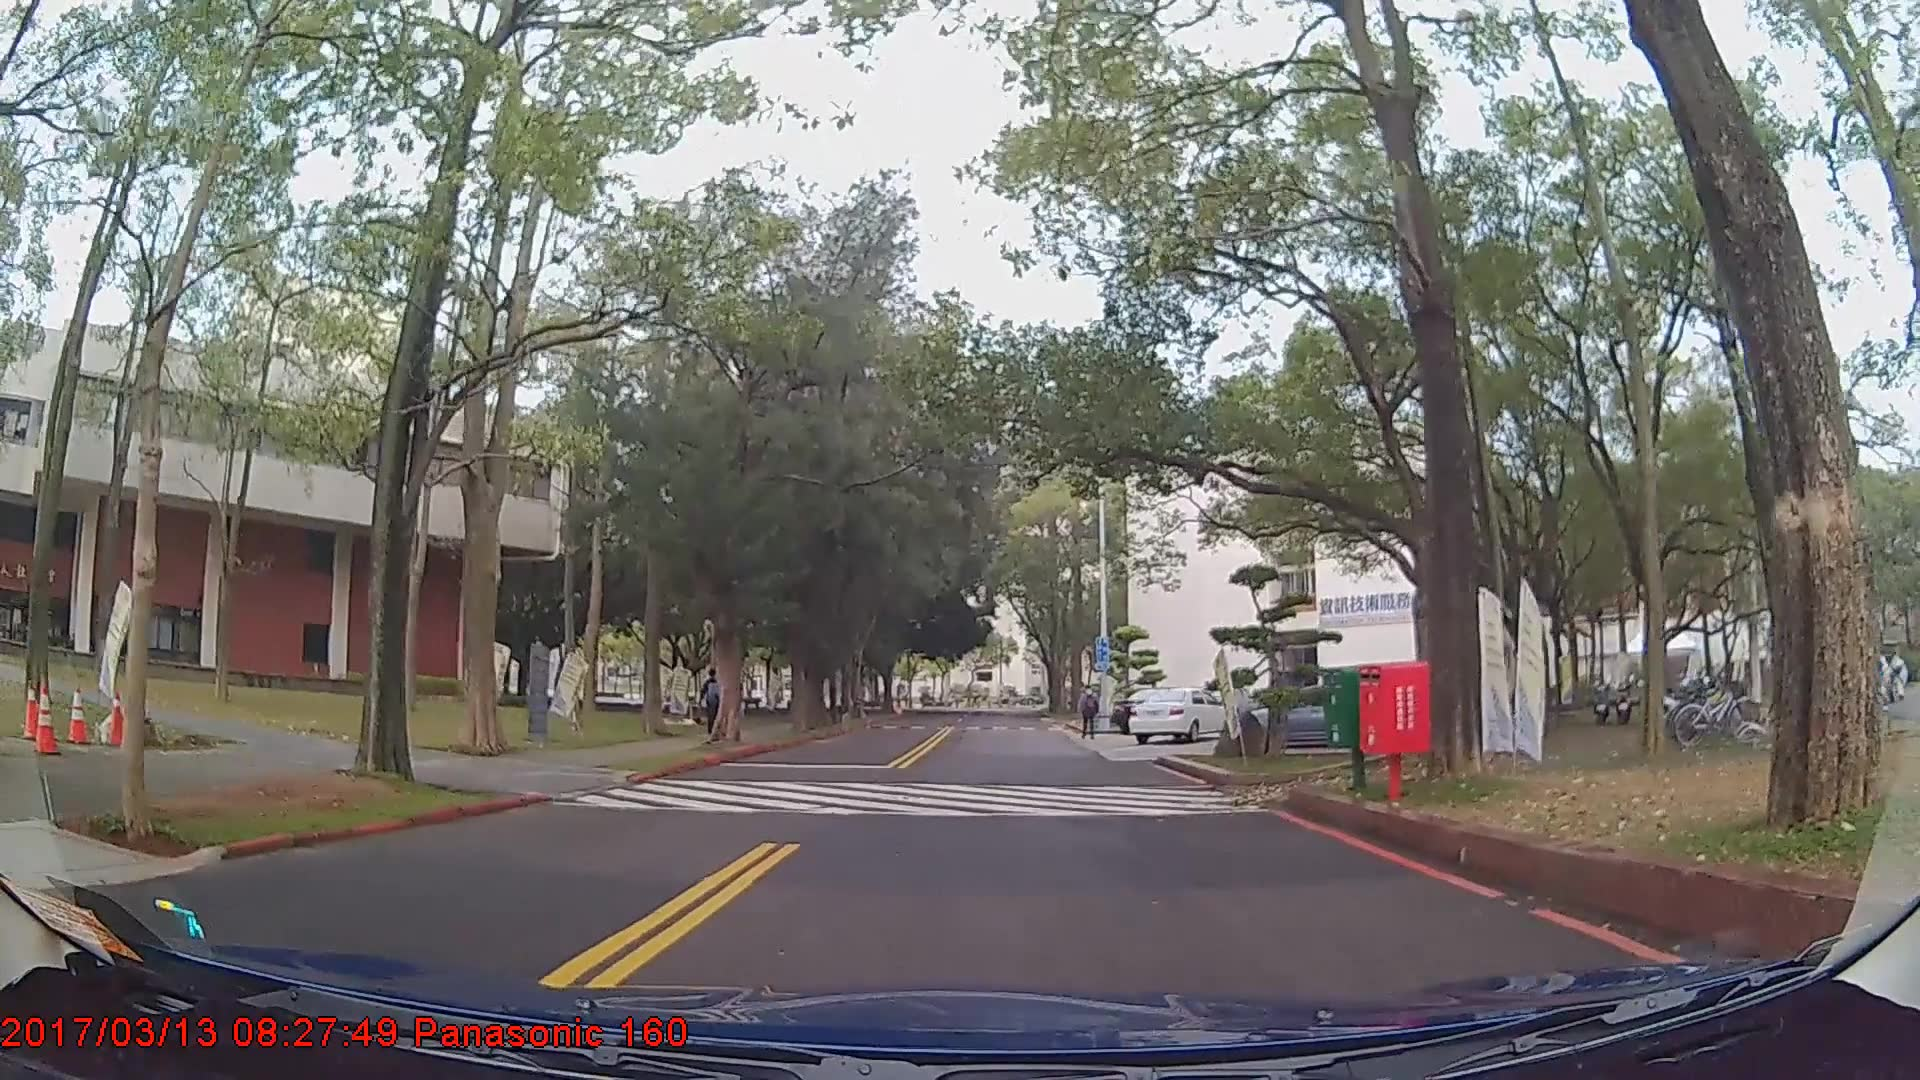pedestrian: (701, 667, 732, 738), (1078, 685, 1102, 740)
vehicle: (1130, 681, 1233, 740)
